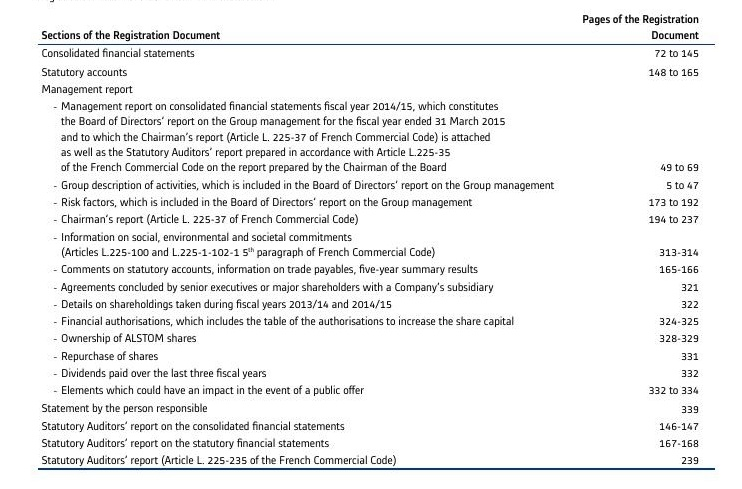table: (0, 0, 742, 489)
